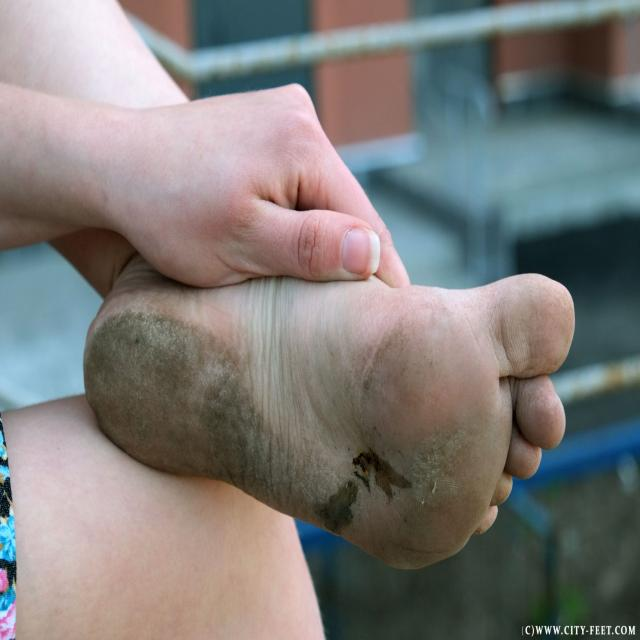Barefoots: (82, 273, 576, 569)
